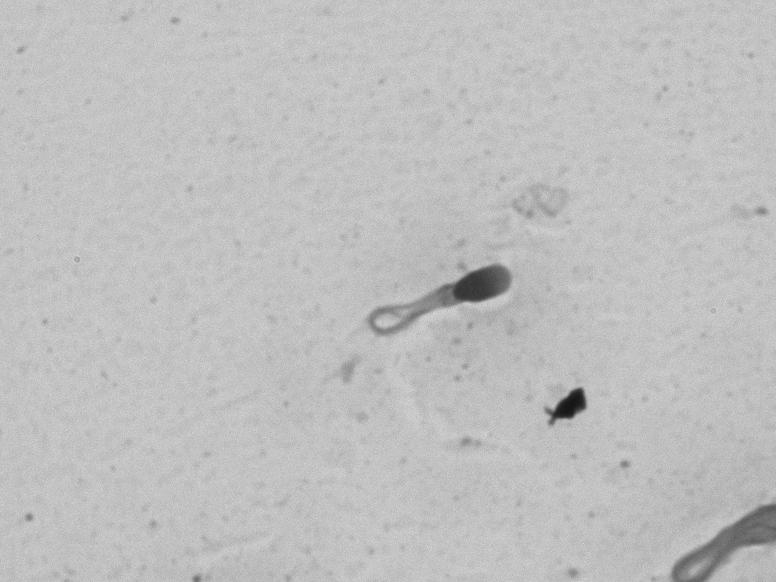Abnormal: (354, 237, 535, 352)
